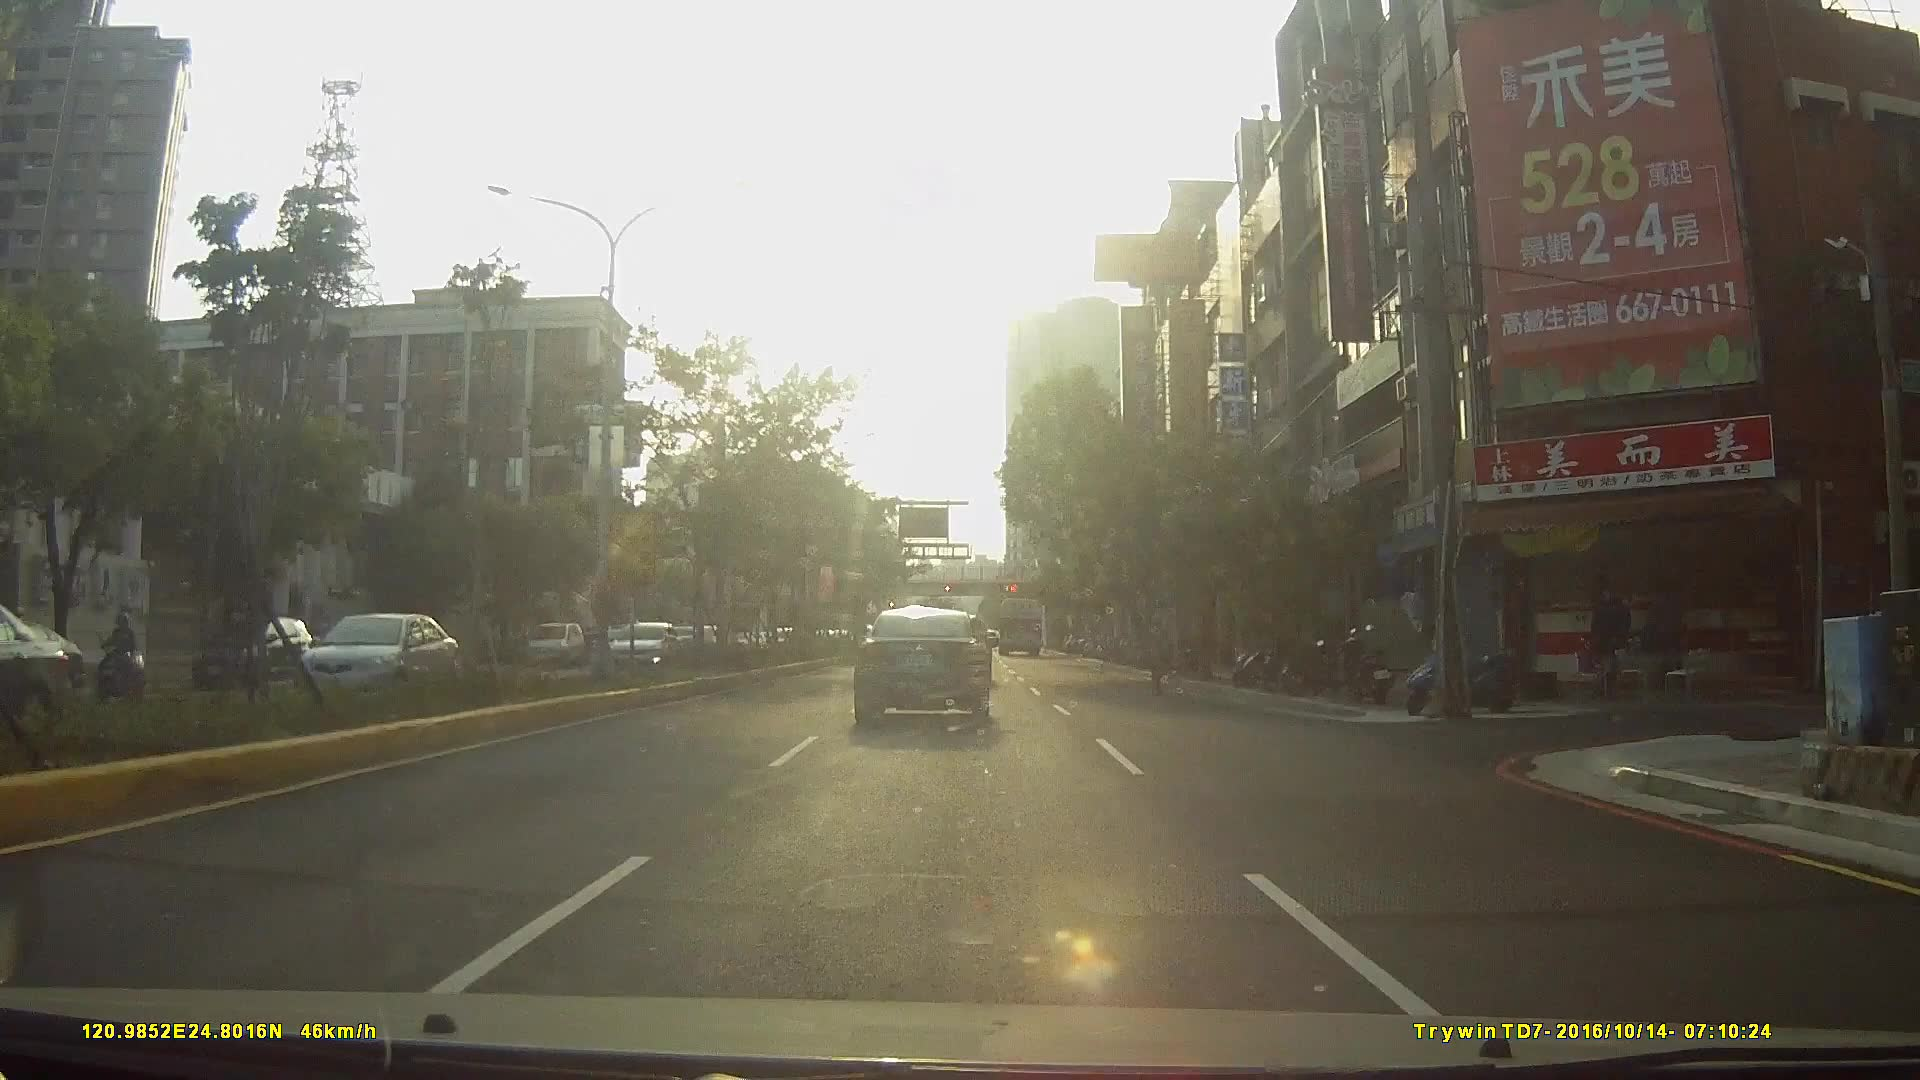pedestrian: (1142, 612, 1181, 696)
rider: (90, 611, 147, 706)
vehicle: (281, 602, 472, 730), (850, 605, 992, 729), (1, 603, 112, 726), (183, 615, 310, 690), (0, 618, 73, 705), (596, 617, 691, 678), (994, 594, 1043, 656), (523, 620, 584, 665)
